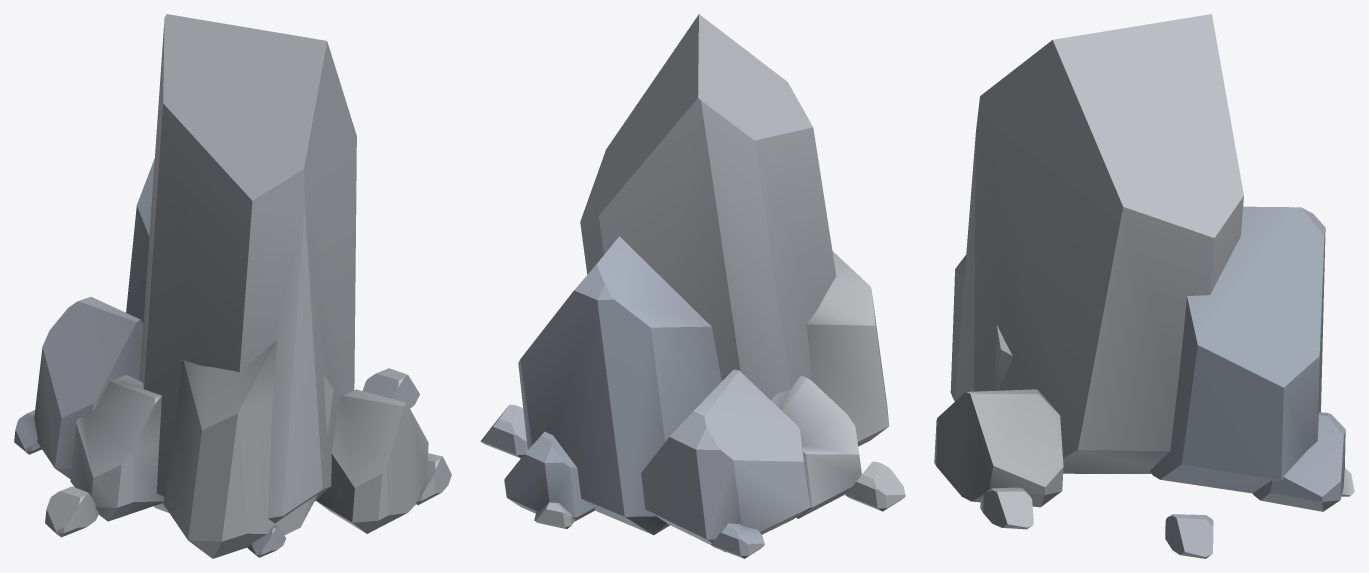
The model's file is escarpment-1.glb.
The picture shows the model from 3 angles, left to right: view 1: azimuth 30°, elevation 25°; view 2: azimuth 150°, elevation 25°; view 3: azimuth 270°, elevation 25°; orthographic projection. The views are drawn at different scales.
Visible parts, largest first — view 1: Cube, Cube.002, Cube.006, Cube.003, Cube.004, Cube.001, Cube.010, Cube.007, Cube.012, Cube.009, Cube.011; view 2: Cube, Cube.001, Cube.003, Cube.002, Cube.004, Cube.005, Cube.010, Cube.007, Cube.009, Cube.008; view 3: Cube, Cube.001, Cube.006, Cube.005, Cube.007, Cube.012, Cube.002.
Part boxes in pixels (left/top/right/bottom): Cube: left=139, top=14, right=356, bottom=523; Cube.002: left=163, top=340, right=333, bottom=558; Cube.006: left=316, top=389, right=428, bottom=533; Cube.003: left=34, top=297, right=143, bottom=479; Cube.004: left=70, top=375, right=163, bottom=521; Cube.001: left=126, top=158, right=154, bottom=322; Cube.010: left=45, top=486, right=98, bottom=537; Cube.007: left=362, top=368, right=419, bottom=408; Cube.012: left=416, top=453, right=451, bottom=504; Cube.009: left=14, top=410, right=41, bottom=454; Cube.011: left=247, top=525, right=286, bottom=557; Cube: left=580, top=14, right=836, bottom=399; Cube.001: left=518, top=236, right=721, bottom=535; Cube.003: left=641, top=369, right=810, bottom=552; Cube.002: left=806, top=251, right=889, bottom=446; Cube.004: left=771, top=375, right=861, bottom=518; Cube.005: left=504, top=431, right=594, bottom=521; Cube.010: left=845, top=461, right=905, bottom=511; Cube.007: left=480, top=404, right=527, bottom=458; Cube.009: left=711, top=523, right=764, bottom=558; Cube.008: left=534, top=502, right=575, bottom=529; Cube: left=954, top=14, right=1243, bottom=473; Cube.001: left=1150, top=206, right=1325, bottom=493; Cube.006: left=934, top=389, right=1063, bottom=507; Cube.005: left=1252, top=412, right=1345, bottom=511; Cube.007: left=1165, top=514, right=1213, bottom=558; Cube.012: left=980, top=487, right=1033, bottom=529; Cube.002: left=950, top=255, right=1012, bottom=400.
Bounding box in the file's own units: 1.5 × 1.64 × 1.36.
